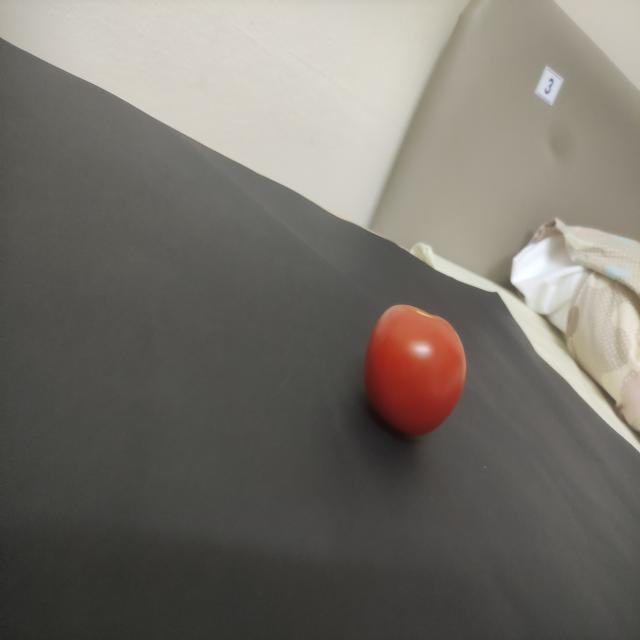kirmizi: (349, 295, 477, 450)
